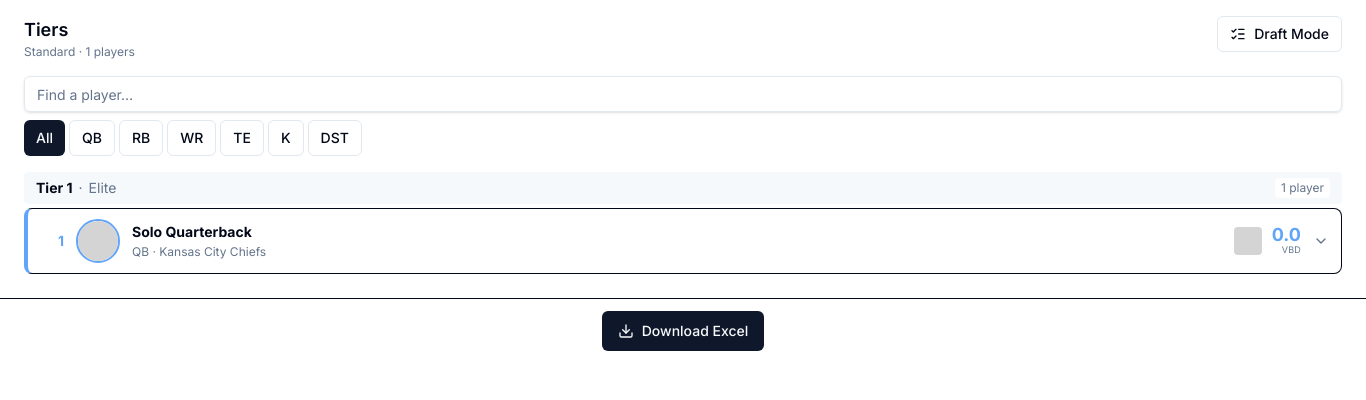
Scenario: TiersPanel › empty position filter › shows an empty-state message and reset button when the selected position has no players
Click the button "DST". click: x=335, y=138
box: [308,120,362,156]
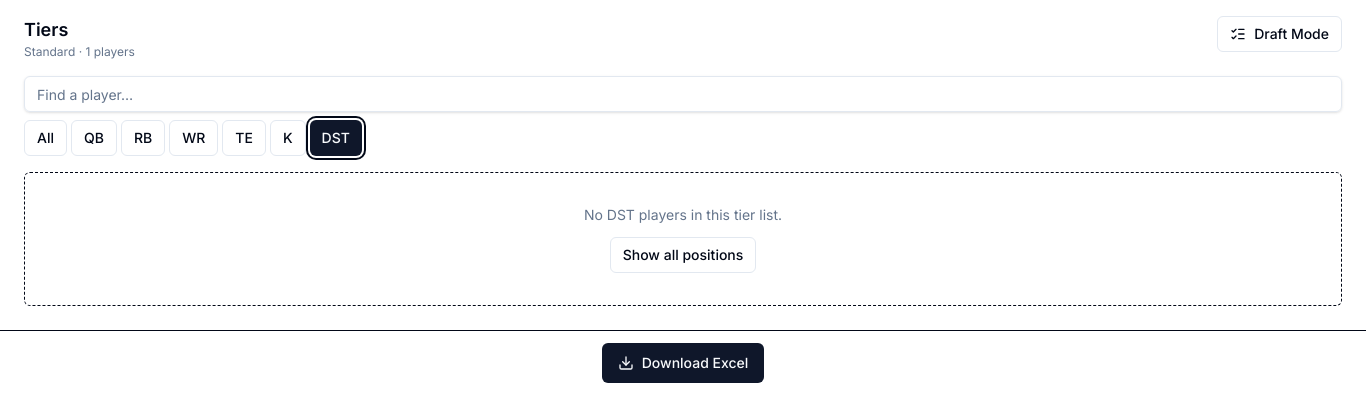
Check: the text "No DST players in this tier list." is shown, box [584,206,782,223]
Check: the button "Show all positions" is shown, box [610,237,756,273]
Check: the button "Solo Quarterback" is gone
